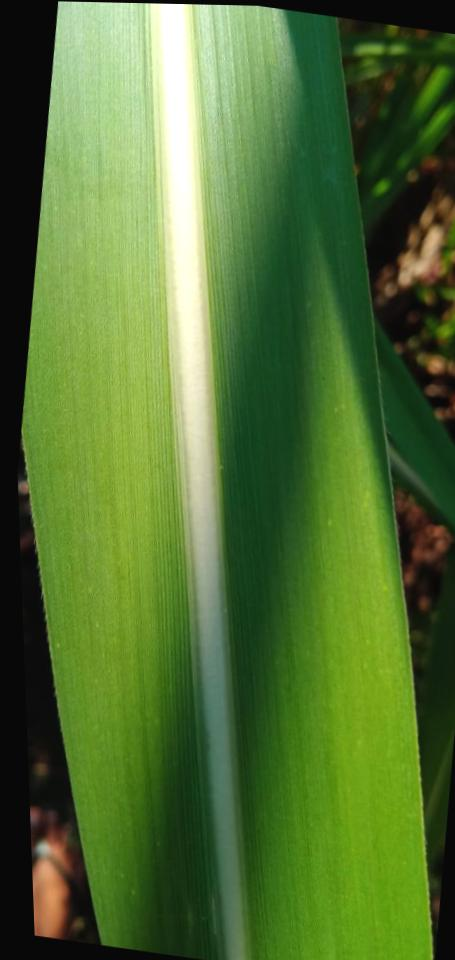Healthy: (21, 1, 429, 960)
